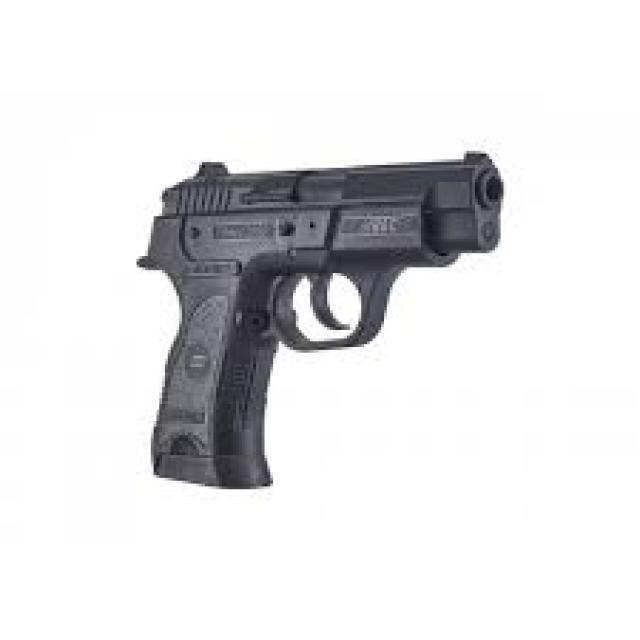pistol: (132, 148, 511, 493)
